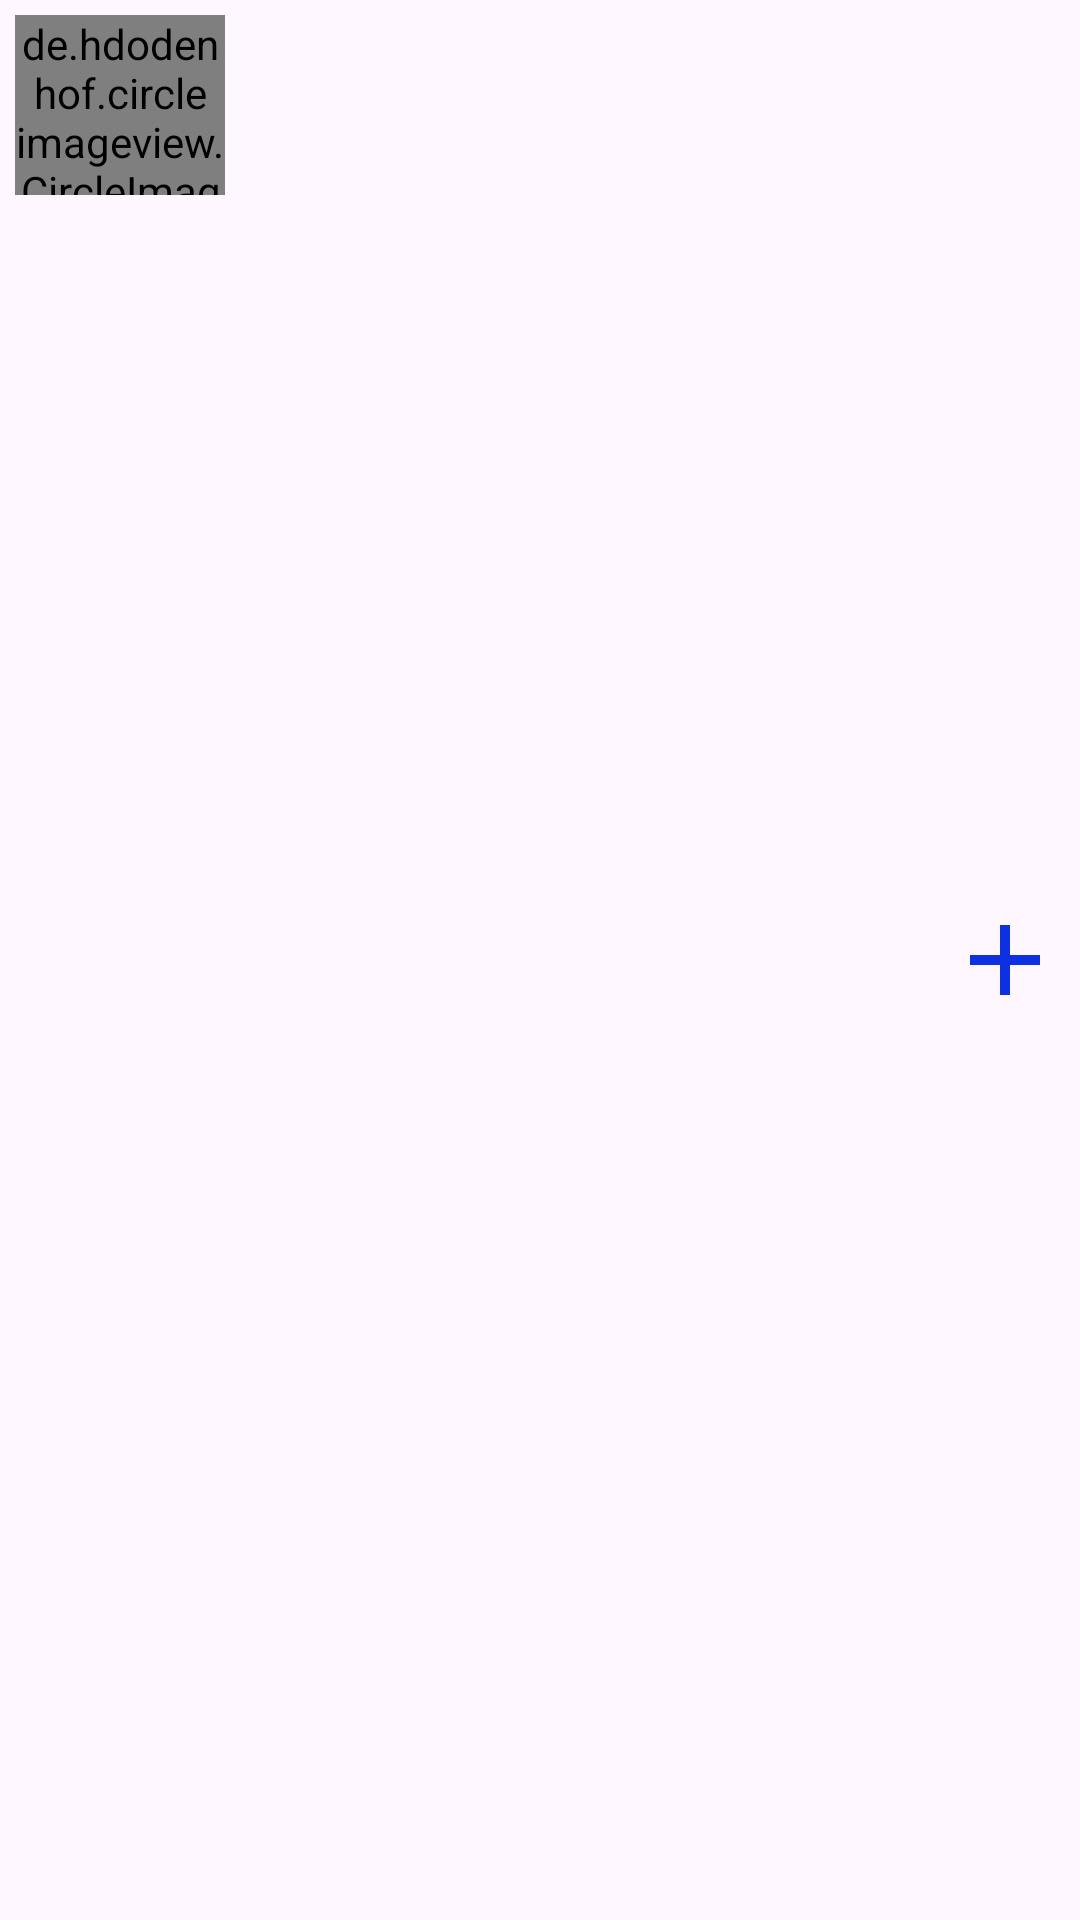

Named icons in this screenshot (1080 x 1920) and their bounding boxes, (x1, y1, x2, y2):
add: (970, 925, 1040, 995)
